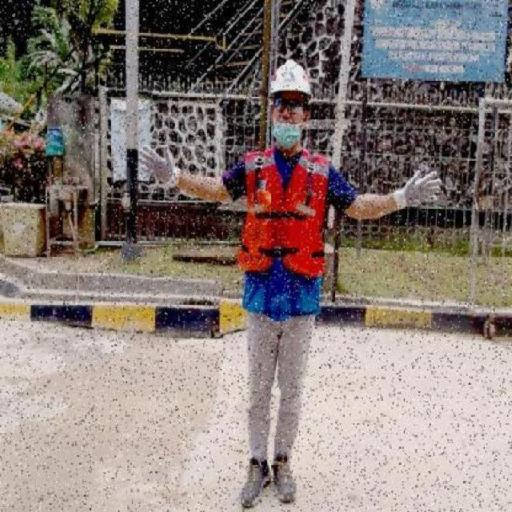Boots: (240, 455, 272, 510), (272, 450, 298, 506)
Helmet: (268, 59, 312, 97)
